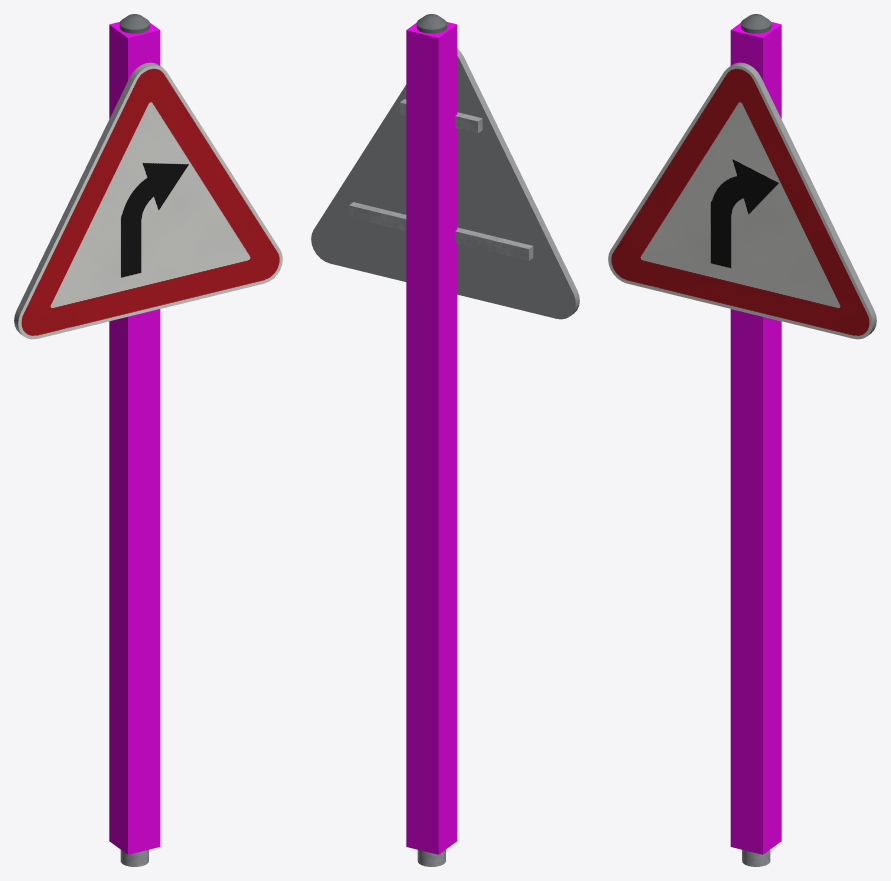
File: EN_Sign_1_11_1_CurveRight.fbx
The picture shows the model from 3 angles, left to right: view 1: azimuth 30°, elevation 25°; view 2: azimuth 150°, elevation 25°; view 3: azimuth 330°, elevation 25°; orthographic projection.
Visible parts, largest first — view 1: EN_Sign_1_11_1_CurveRight_Mesh, COL_Post; view 2: COL_Post, EN_Sign_1_11_1_CurveRight_Mesh; view 3: EN_Sign_1_11_1_CurveRight_Mesh, COL_Post.
Part boxes in pixels (x1,y1,x2,y2): EN_Sign_1_11_1_CurveRight_Mesh: (14, 14, 282, 866); COL_Post: (109, 22, 160, 854); COL_Post: (406, 22, 457, 854); EN_Sign_1_11_1_CurveRight_Mesh: (311, 14, 579, 866); EN_Sign_1_11_1_CurveRight_Mesh: (608, 14, 876, 866); COL_Post: (730, 22, 781, 854).
Size of the model in its own units: 0.8144 by 2.48 by 0.134.
